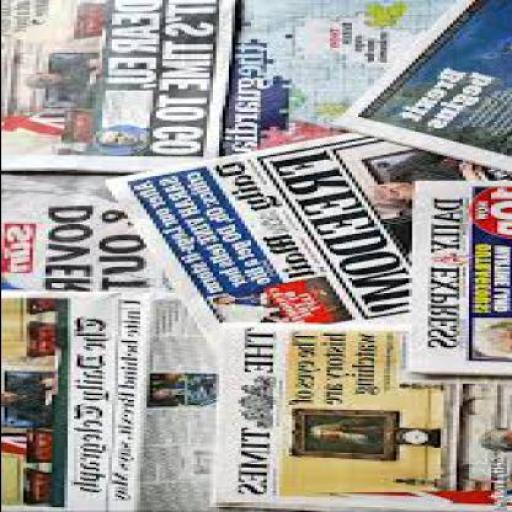paper: (1, 0, 511, 511), (98, 132, 509, 339), (206, 320, 494, 506), (2, 290, 210, 511), (1, 0, 233, 172), (218, 0, 427, 166), (322, 0, 509, 171), (1, 172, 196, 290), (401, 176, 510, 384), (458, 382, 509, 510)
